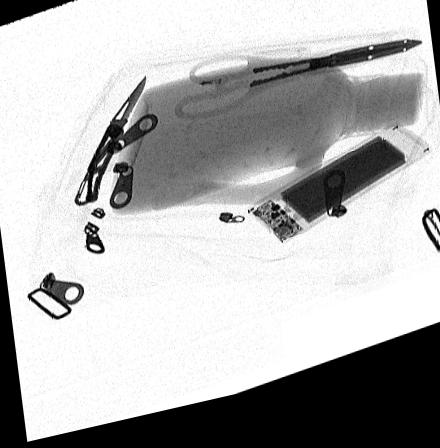Knife: (72, 78, 147, 212)
Powerbank: (242, 140, 430, 258)
Scissors: (175, 52, 424, 128)
